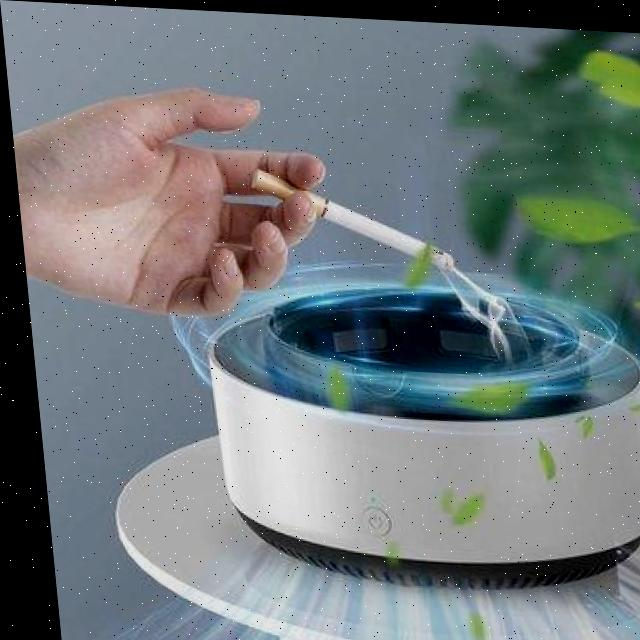cigarette: (248, 168, 450, 268)
